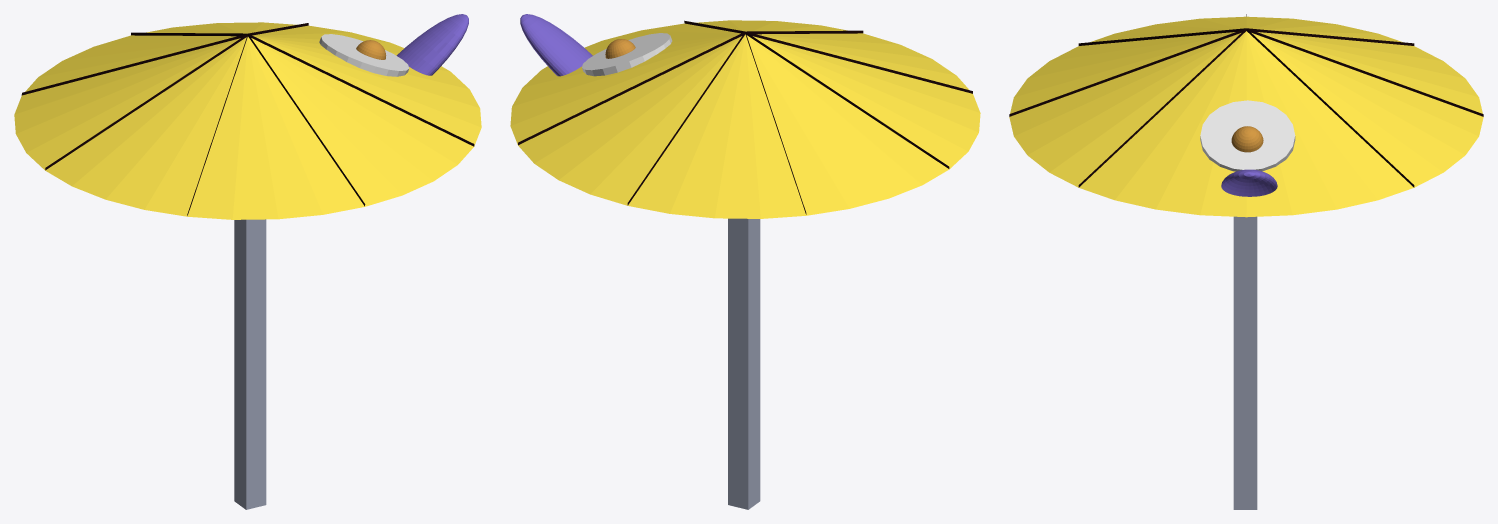
The model's file is KasaOBakeOpen.fbx.
The picture shows the model from 3 angles, left to right: view 1: azimuth 30°, elevation 25°; view 2: azimuth 150°, elevation 25°; view 3: azimuth 270°, elevation 25°; orthographic projection.
Parts seen in each view (by area): view 1: Cone, Cube, Sphere.001, Circle; view 2: Cone, Cube, Sphere.001, Circle; view 3: Cone, Cube, Circle, Sphere.001, Sphere.
Part boxes in pixels (left/top/right/bottom): Cone: left=14, top=22, right=481, bottom=219; Cube: left=234, top=219, right=266, bottom=509; Sphere.001: left=396, top=14, right=468, bottom=75; Circle: left=319, top=34, right=409, bottom=76; Cone: left=510, top=20, right=980, bottom=218; Cube: left=728, top=218, right=760, bottom=509; Sphere.001: left=520, top=14, right=592, bottom=76; Circle: left=582, top=33, right=672, bottom=76; Cone: left=1009, top=14, right=1483, bottom=217; Cube: left=1233, top=216, right=1257, bottom=509; Circle: left=1200, top=100, right=1295, bottom=171; Sphere.001: left=1221, top=169, right=1277, bottom=196; Sphere: left=1231, top=126, right=1263, bottom=152.
Size of the model in its own units: 121 by 129 by 116.
